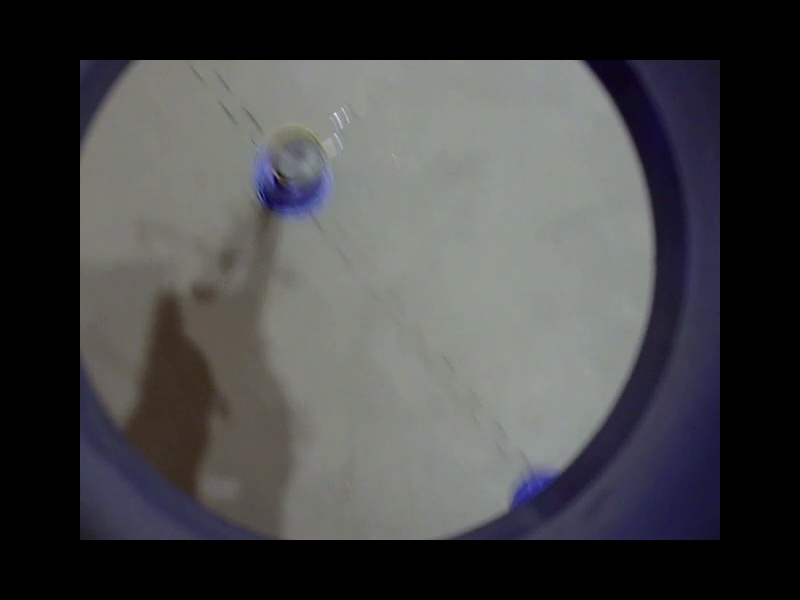tip: (486, 55, 598, 160)
